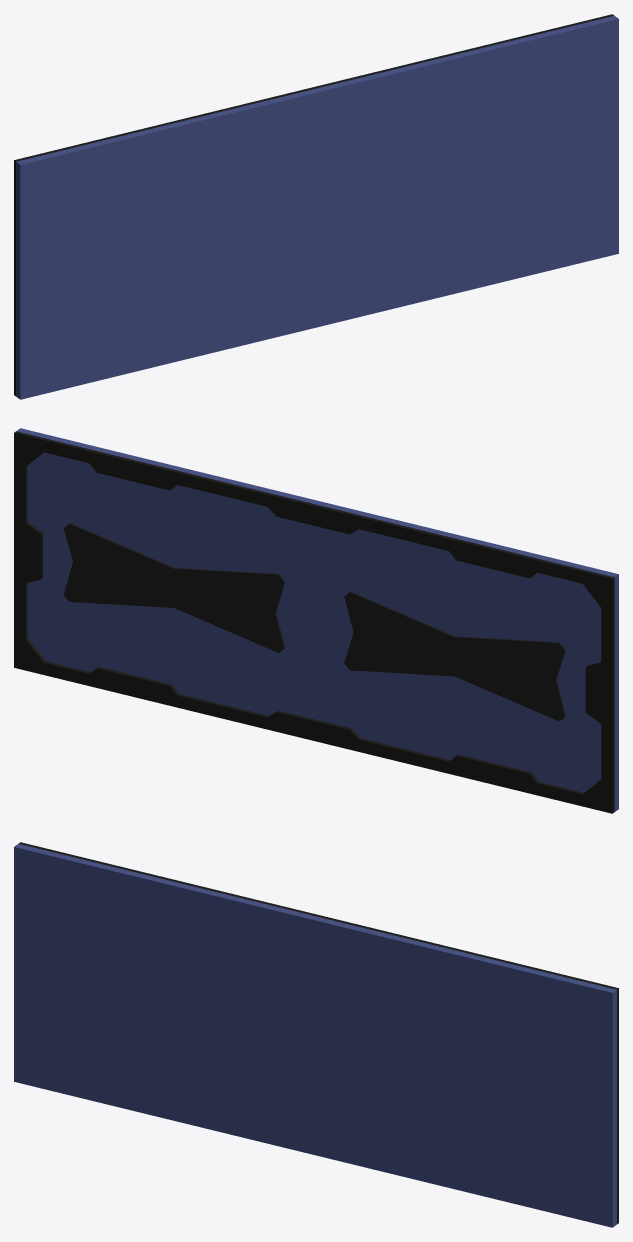
The model's file is Large_Ex_Wall.glb.
The picture shows the model from 3 angles, top to bottom: view 1: azimuth 30°, elevation 25°; view 2: azimuth 150°, elevation 25°; view 3: azimuth 330°, elevation 25°; orthographic projection.
Visible parts, largest first — view 1: Large_Wall, Large_Extruded_Wall; view 2: Large_Wall, Large_Extruded_Wall, Large_Extruded_Wall_2; view 3: Large_Wall, Large_Extruded_Wall.
Boxes of the visible parts, x1,y1,x2,y2 form: Large_Wall: (16,16,618,399); Large_Extruded_Wall: (14,14,614,396); Large_Wall: (16,428,618,811); Large_Extruded_Wall: (14,431,614,813); Large_Extruded_Wall_2: (63,523,565,721); Large_Wall: (14,844,616,1227); Large_Extruded_Wall: (18,842,618,1224).
Bounding box in the file's own units: 16 × 6 × 0.3.
